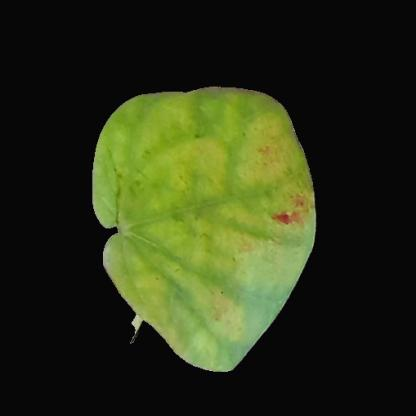curl_stage1: (138, 128, 284, 308), (179, 306, 246, 360)
